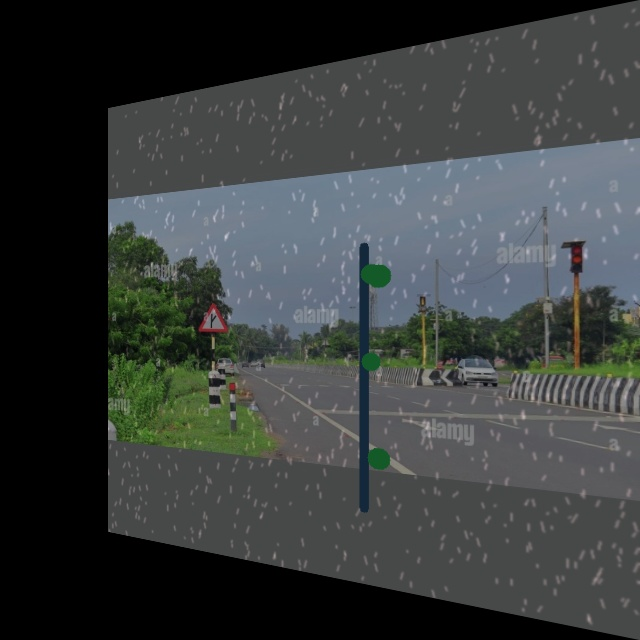Y_Intersection: (196, 302, 230, 338)
